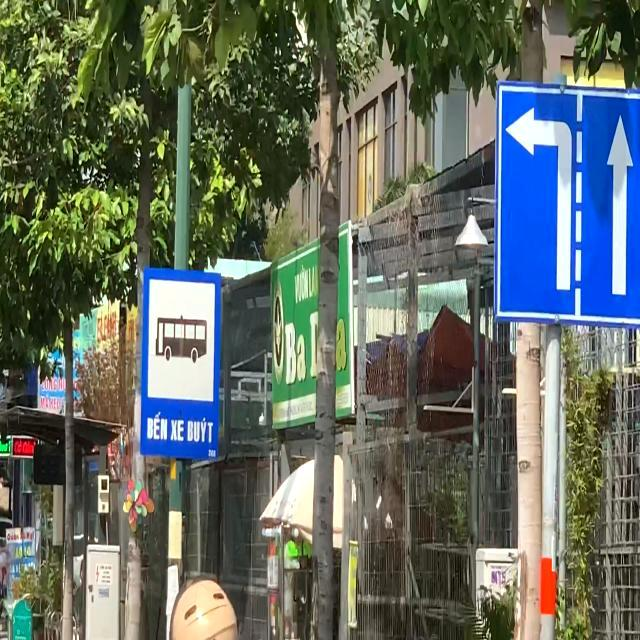Ben xe buyt: (138, 264, 222, 462)
